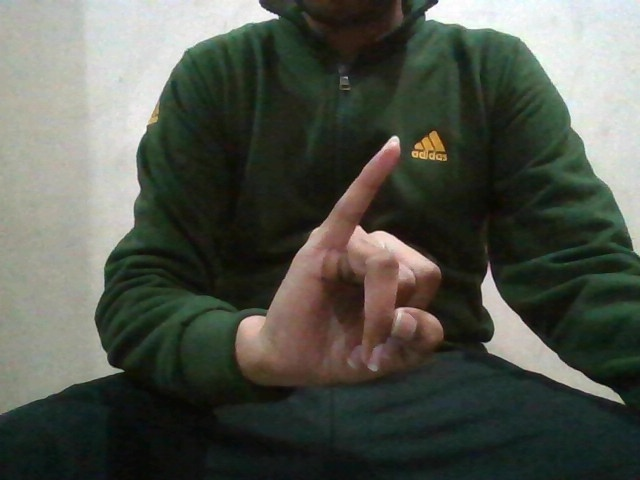I: (262, 133, 445, 387)
